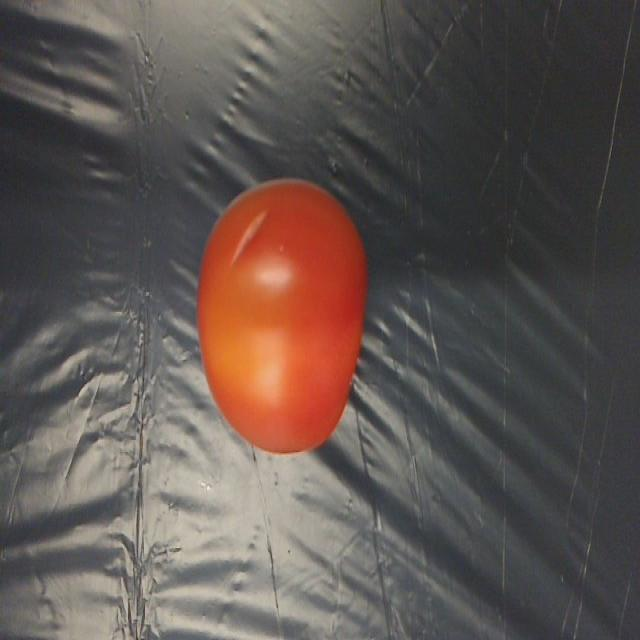sari: (190, 155, 380, 490)
